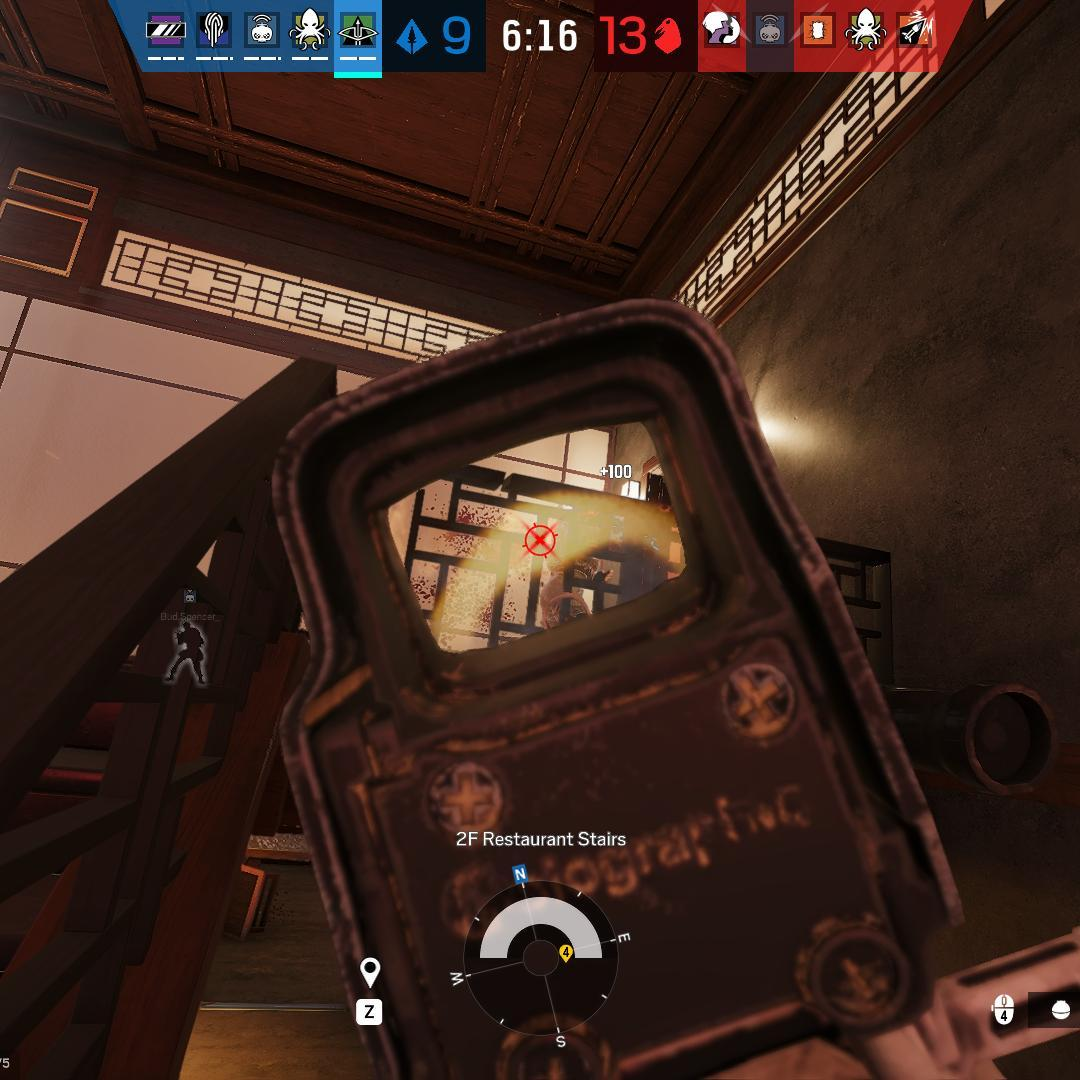Character: (537, 481, 634, 628)
Friend_label: (159, 589, 221, 623)
